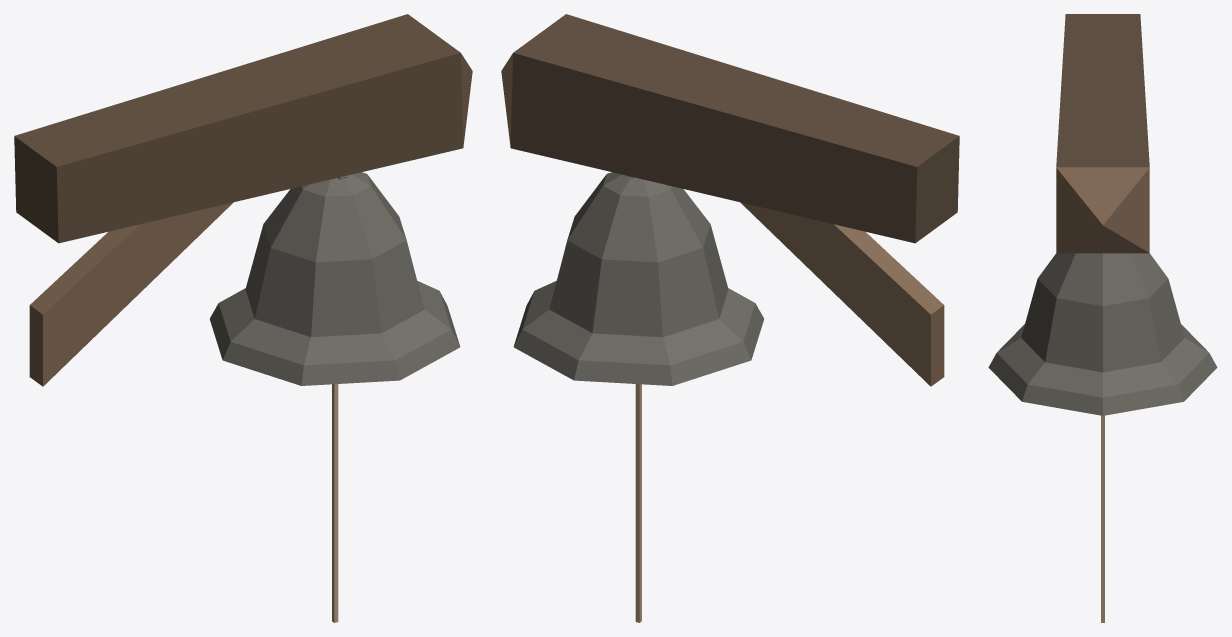
File: source.glb
3 views of the same model, side by side, from view 1: azimuth 30°, elevation 25°; view 2: azimuth 150°, elevation 25°; view 3: azimuth 270°, elevation 25° (orthographic). The views are drawn at different scales.
Visible parts, largest first — view 1: object2, object6, object1, object3; view 2: object2, object6, object1, object3; view 3: object6, object2, object3.
Boxes of the visible parts, <box> form: object2: <box>14,14,472,243</box>; object6: <box>210,172,460,385</box>; object1: <box>29,202,233,386</box>; object3: <box>332,384,338,622</box>; object2: <box>501,14,959,243</box>; object6: <box>513,172,763,385</box>; object1: <box>740,202,944,386</box>; object3: <box>635,384,641,622</box>; object6: <box>988,253,1217,415</box>; object2: <box>1056,14,1149,253</box>; object3: <box>1101,415,1104,622</box>.
Bounding box in the file's own units: 0.9518 × 1.17 × 0.4896.
